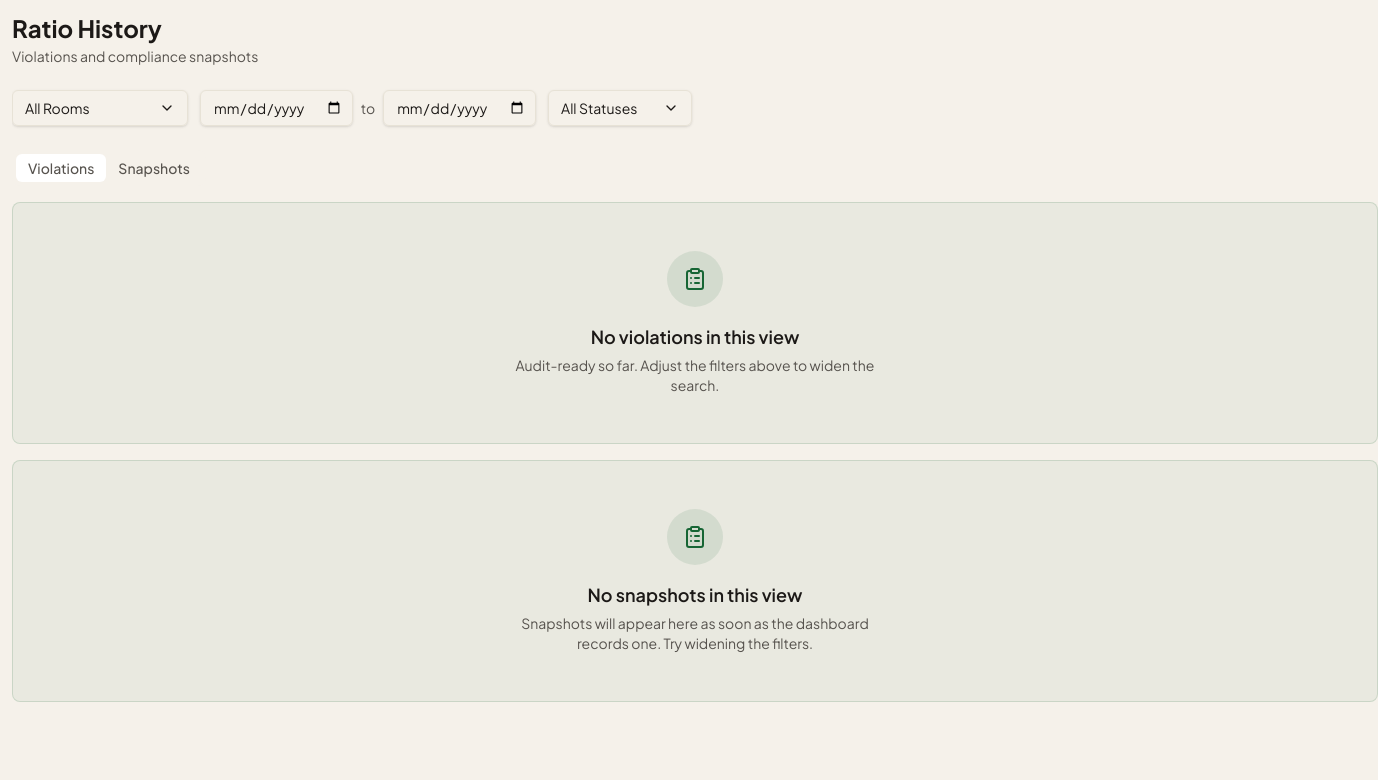
Test: RatioHistoryPage › shows Clear filters when the to date is set
This screenshot has width=1378, height=780.
Type "2026-04-10" into the date field named "To date" at (460, 108), box [383,90,536,126]
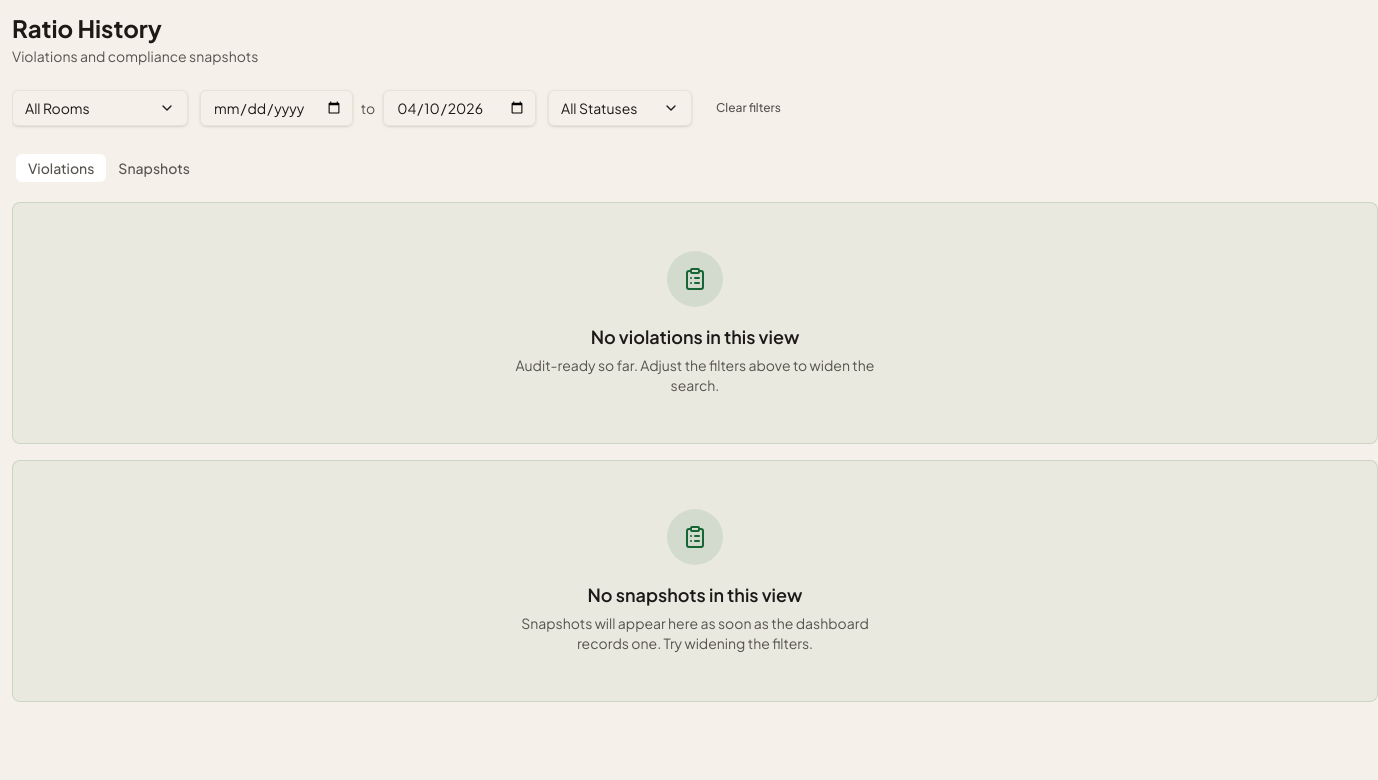
Check: the button "Clear filters" is shown, box [704,92,793,124]
